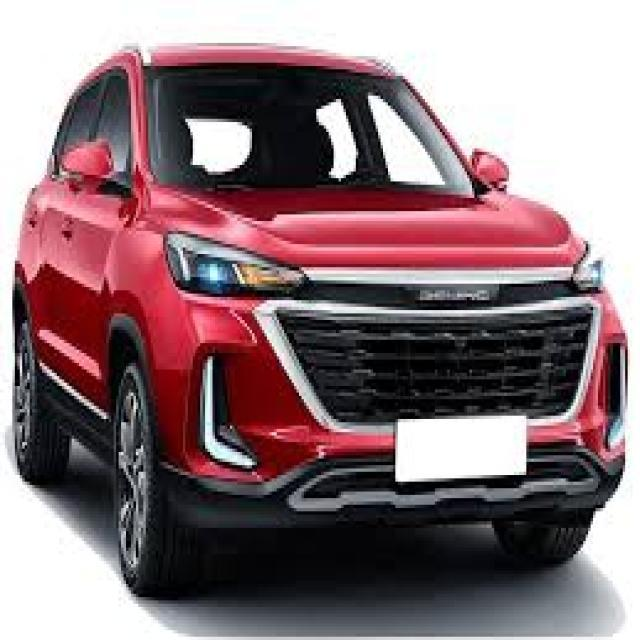SUV: (35, 36, 640, 593)
